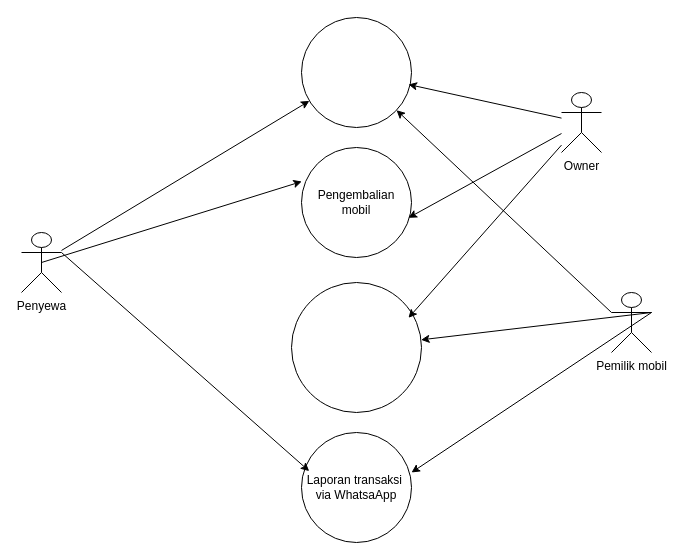
This 684x560 diagram has some shape labels left out. The centre of each missing label's shape, as x and y in pixels:
"Pencatat/Penambahan pemilik mobil" belongs at pixel 356 347.
"Penyewaan mobil" belongs at pixel 356 72.
